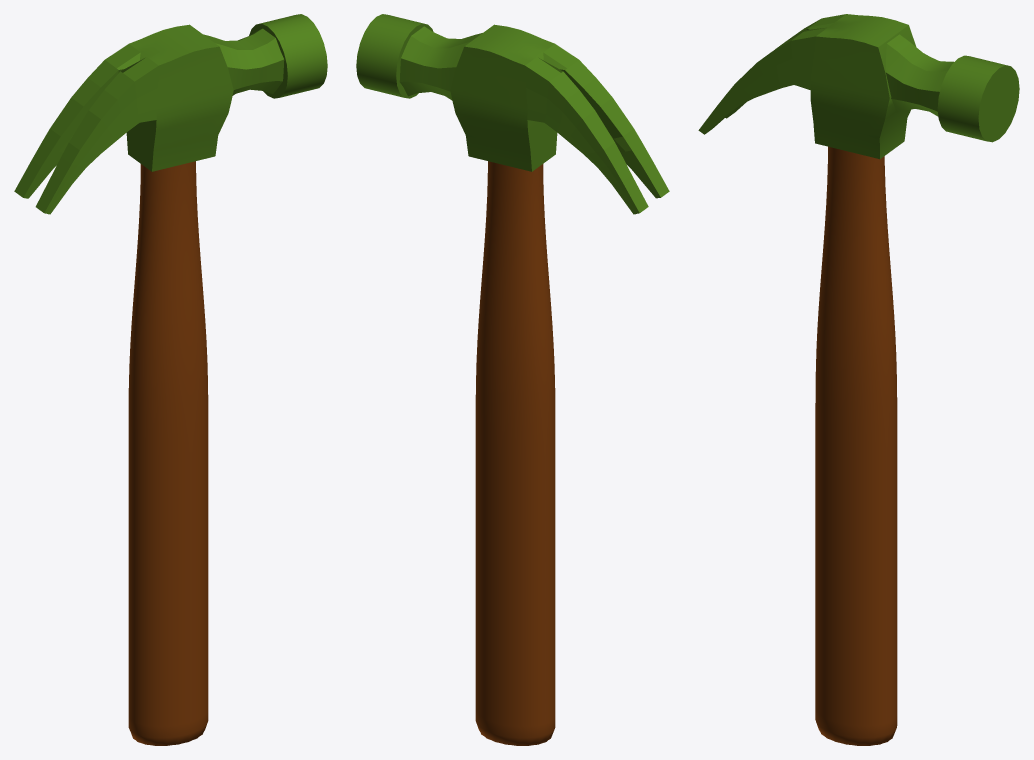
File: Texture_Hammer.obj
3 renders of one model, left to right at view 1: azimuth 30°, elevation 25°; view 2: azimuth 150°, elevation 25°; view 3: azimuth 330°, elevation 25°, orthographic. The views are drawn at different scales.
Visible parts, largest first — view 1: pCube5; view 2: pCube5; view 3: pCube5.
Boxes of the visible parts, x1,y1,x2,y2 form: pCube5: (14,14,327,745); pCube5: (356,14,669,745); pCube5: (698,14,1019,745).
Size of the model in its own units: 2.39 by 5.67 by 0.5957.
